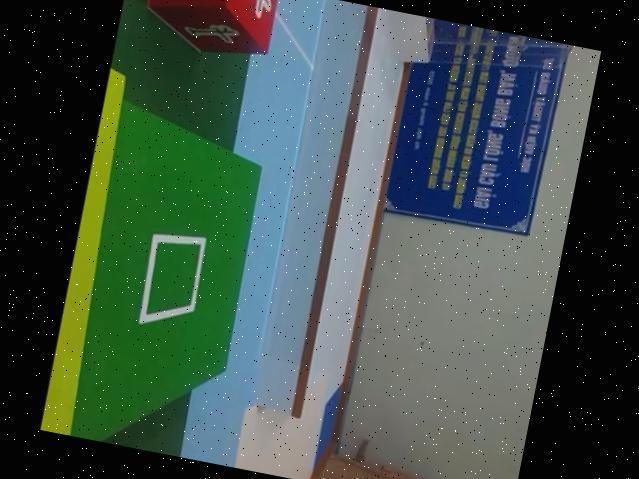R2 Real: (131, 0, 278, 62)
